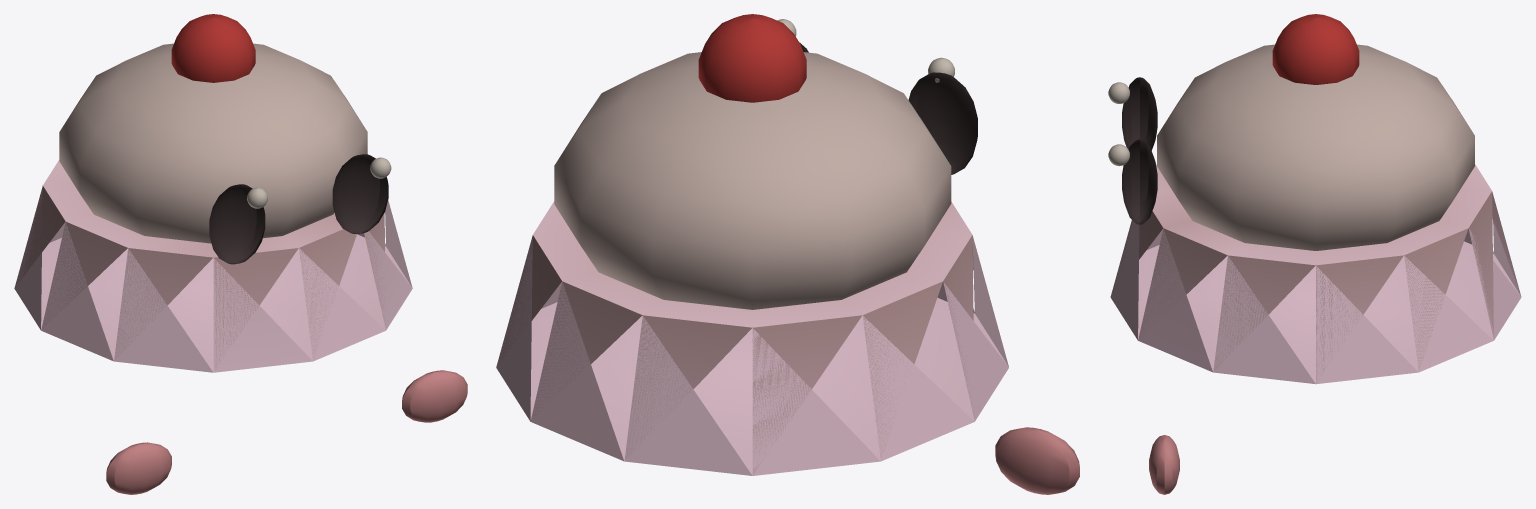
3 renders of one model, left to right at view 1: azimuth 30°, elevation 25°; view 2: azimuth 150°, elevation 25°; view 3: azimuth 270°, elevation 25°, orthographic. The views are drawn at different scales.
Parts seen in each view (by area): view 1: pet_p912fd065; view 2: pet_p912fd065; view 3: pet_p912fd065.
Part boxes in pixels (x1,y1,x2,y2): pet_p912fd065: (14, 14, 467, 494); pet_p912fd065: (496, 14, 1079, 494); pet_p912fd065: (1108, 14, 1521, 494).
Bounding box in the file's own units: 0.2932 × 0.2989 × 0.2814.
